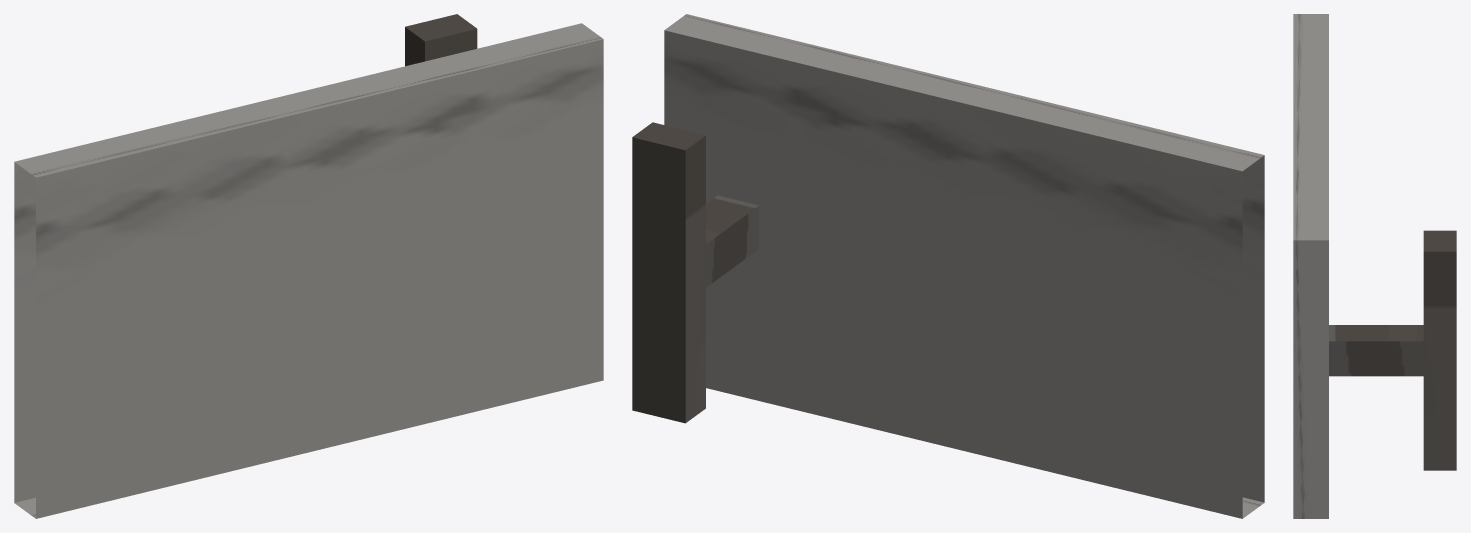
File: pz_benche_seating_outdoor_01_birchwood_1_0.obj
3 renders of one model, left to right at view 1: azimuth 30°, elevation 25°; view 2: azimuth 150°, elevation 25°; view 3: azimuth 270°, elevation 25°, orthographic. The views are drawn at different scales.
Visible parts, largest first — view 1: root; view 2: root; view 3: root.
Part boxes in pixels (x1=…): root: x1=14, y1=14, x2=603, y2=518; root: x1=632, y1=14, x2=1264, y2=518; root: x1=1293, y1=14, x2=1456, y2=518.
Size of the model in its own units: 0.975 by 0.56 by 0.2972.
1 material, 1 textured.
